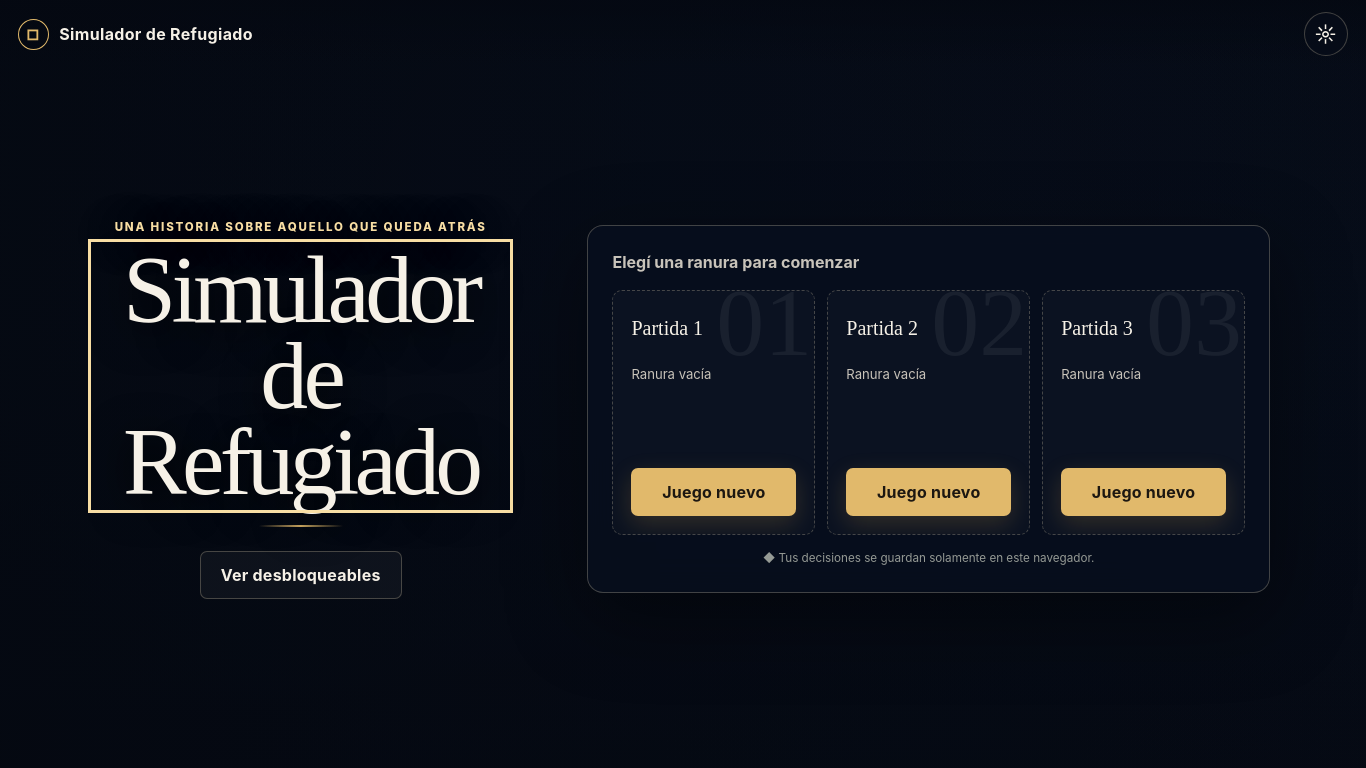
stale save slot protection › rechecks an apparently empty slot before replacing another tab's save
Click the button "Juego nuevo" below "01".
click(714, 492)  # box x1=631 y1=468 x2=796 y2=516
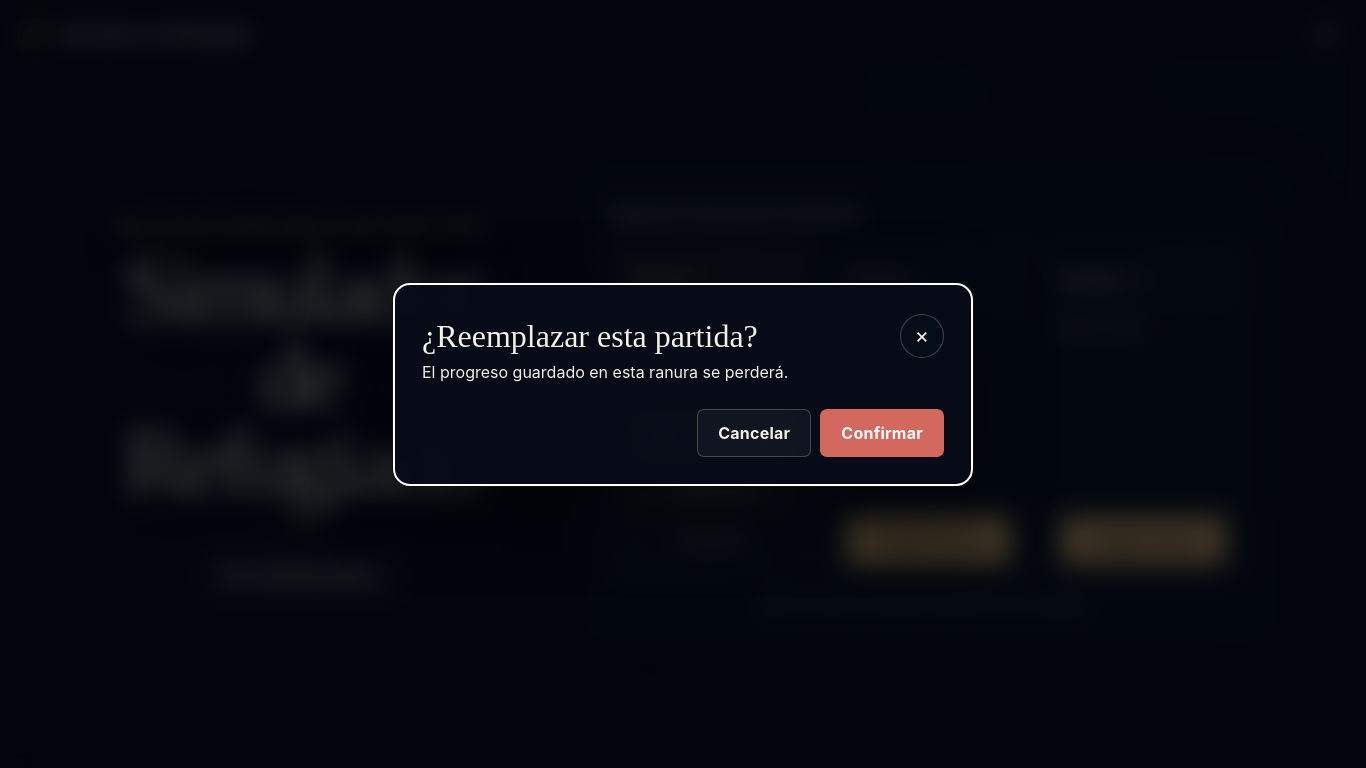
Expected: the dialog "¿Reemplazar esta partida?" is shown, x1=393 y1=282 x2=973 y2=486
